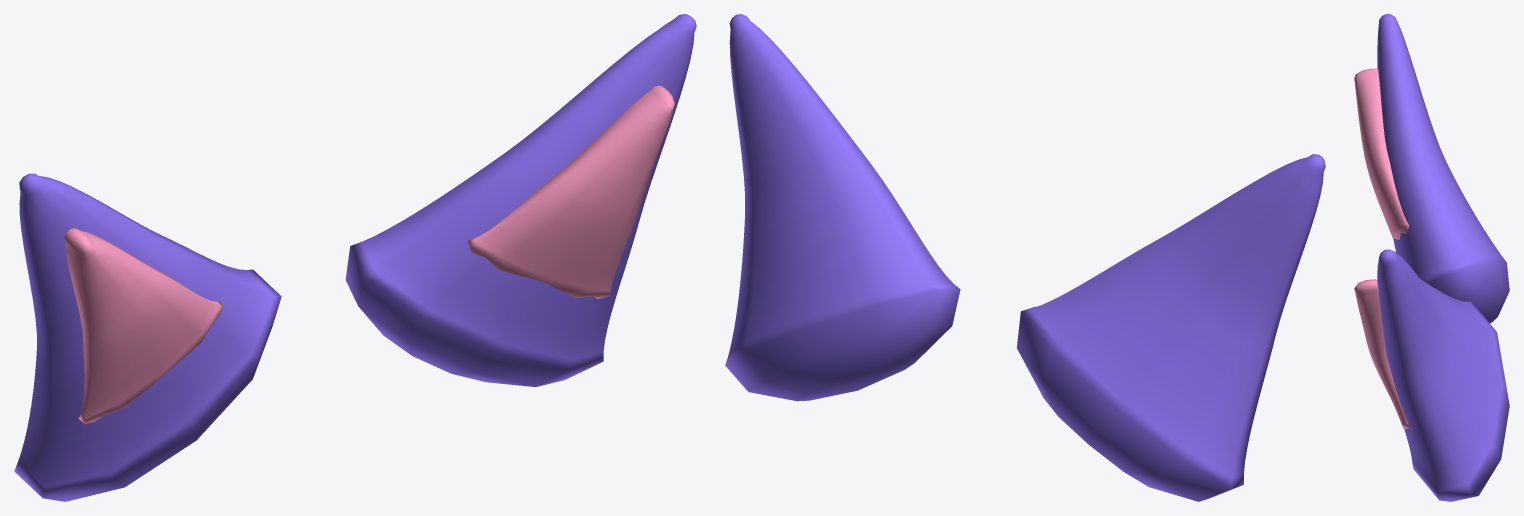
The model's file is ears-cat.glb.
3 views of the same model, side by side, from view 1: azimuth 30°, elevation 25°; view 2: azimuth 150°, elevation 25°; view 3: azimuth 270°, elevation 25° (orthographic). The views are drawn at different scales.
Parts seen in each view (by area): view 1: ears-cat-mesh; view 2: ears-cat-mesh; view 3: ears-cat-mesh.
Part boxes in pixels (bbox=[...]): ears-cat-mesh: bbox=[14, 14, 696, 501]; ears-cat-mesh: bbox=[725, 14, 1325, 501]; ears-cat-mesh: bbox=[1354, 14, 1509, 501].
Size of the model in its own units: 1.51 by 0.8095 by 0.4087.
